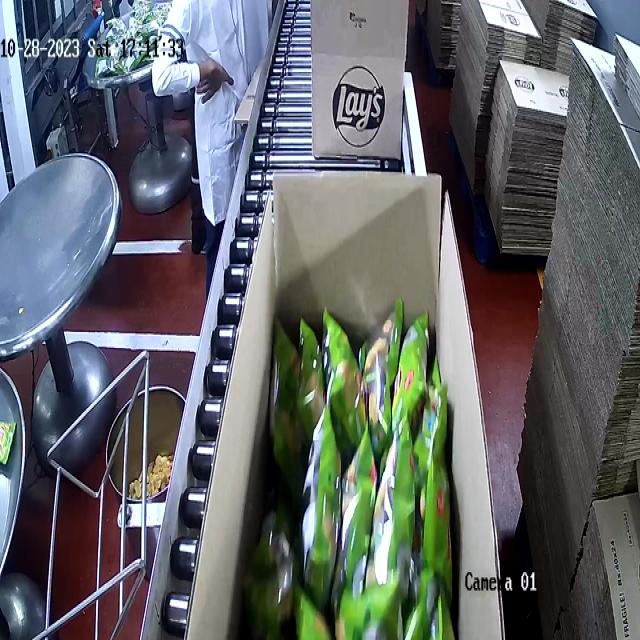YOGURT_HERB: (265, 315, 465, 640)
